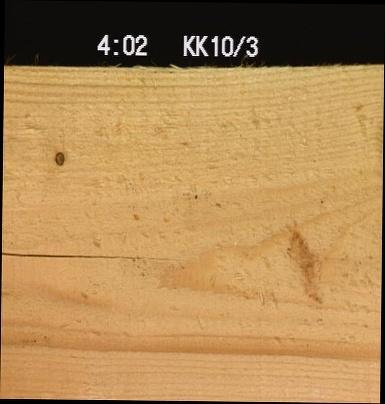dry_knot: (52, 147, 65, 167)
split: (1, 249, 188, 261)
